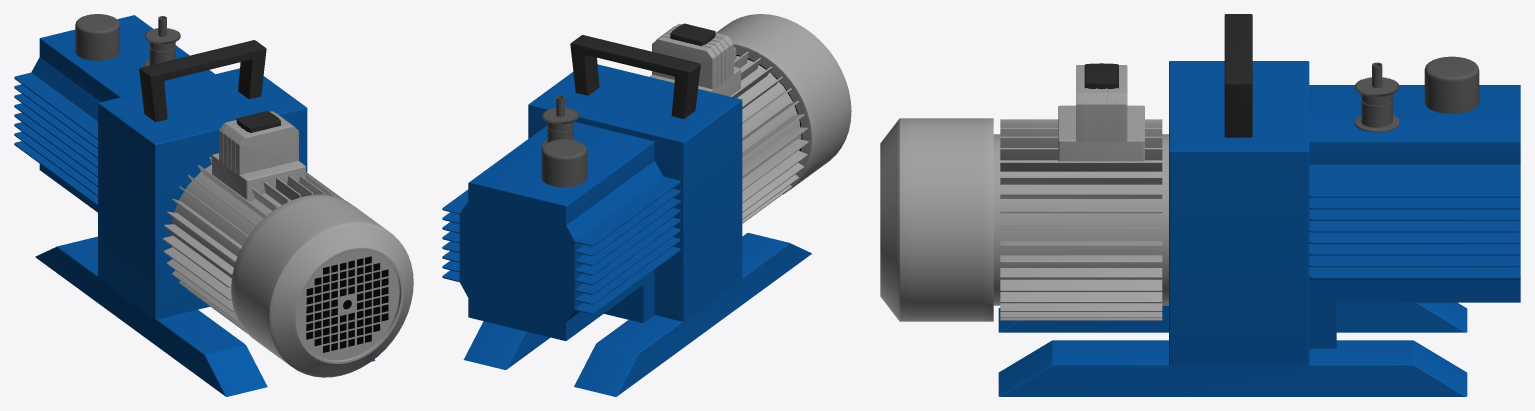
The model's file is sensor5.glb.
3 views of the same model, side by side, from view 1: azimuth 30°, elevation 25°; view 2: azimuth 150°, elevation 25°; view 3: azimuth 270°, elevation 25° (orthographic). The views are drawn at different scales.
Size of the model in its own units: 0.1891 by 0.2956 by 0.5638.
